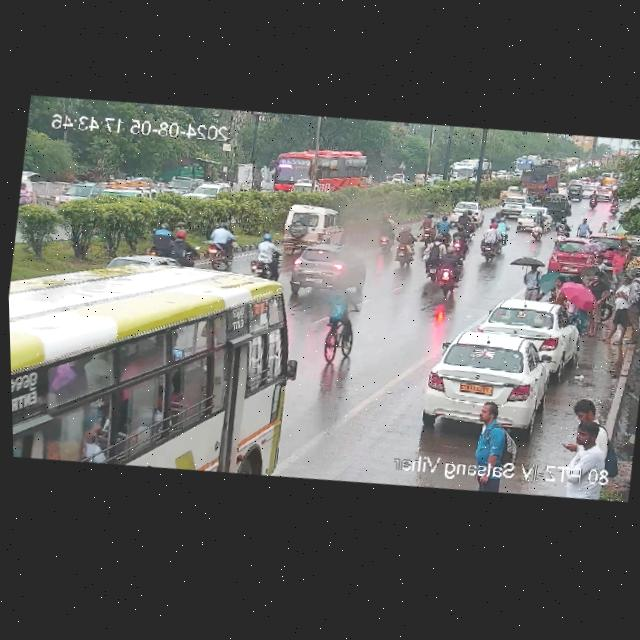bus: (7, 228, 302, 492), (270, 138, 373, 204), (449, 156, 483, 184)
car: (415, 294, 580, 443), (471, 290, 584, 385), (290, 239, 352, 295), (283, 199, 347, 249), (545, 233, 609, 282), (107, 246, 183, 277), (49, 175, 101, 214), (181, 178, 231, 205), (452, 197, 481, 218), (499, 183, 527, 203), (565, 181, 584, 201)
motorcycle: (315, 291, 365, 370), (247, 233, 285, 281), (433, 246, 465, 296), (206, 223, 239, 264), (421, 232, 447, 284), (388, 224, 417, 267), (149, 226, 180, 263), (477, 225, 503, 265), (449, 224, 472, 264), (374, 214, 399, 248), (417, 212, 438, 245), (529, 211, 547, 240), (552, 218, 571, 243), (584, 190, 602, 210)
person: (550, 413, 617, 504), (465, 399, 520, 496), (603, 269, 640, 348), (522, 262, 545, 299), (548, 273, 569, 306)
truck: (515, 162, 560, 199)
